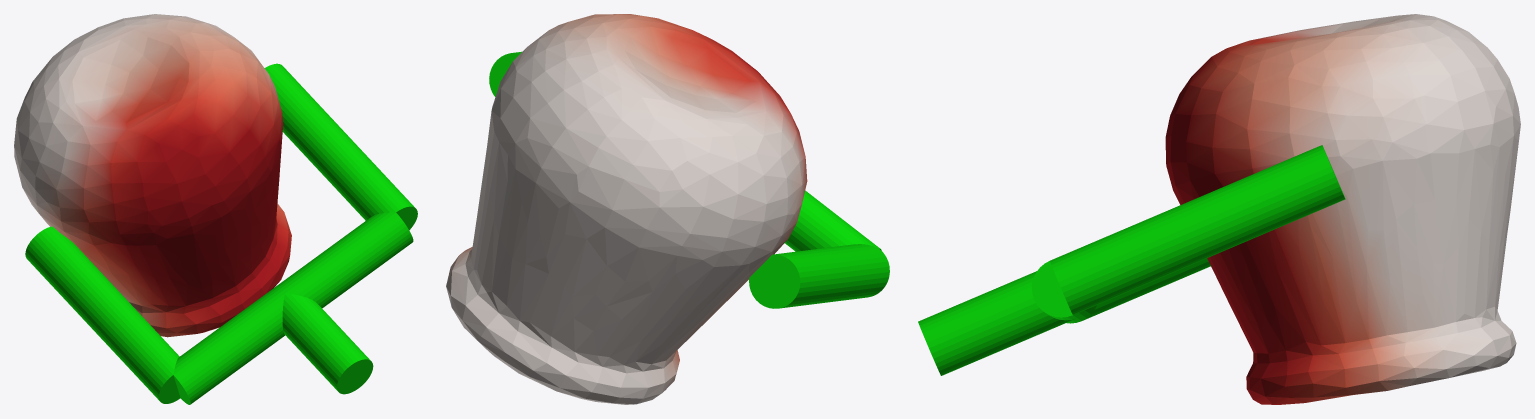
Rendered from round_000_trial_001.obj.
3 renders of one model, left to right at view 1: azimuth 30°, elevation 25°; view 2: azimuth 150°, elevation 25°; view 3: azimuth 270°, elevation 25°, orthographic. The views are drawn at different scales.
Parts seen in each view (by area): view 1: geometry_0, geometry_1; view 2: geometry_0, geometry_1; view 3: geometry_0, geometry_1.
Part boxes in pixels (x1,y1,x2,y2): geometry_0: (14,14,291,337); geometry_1: (25,63,417,404); geometry_0: (446,14,807,404); geometry_1: (489,51,889,308); geometry_0: (1165,14,1520,404); geometry_1: (918,145,1345,375).
Size of the model in its own units: 0.0735 by 0.0707 by 0.1018.
